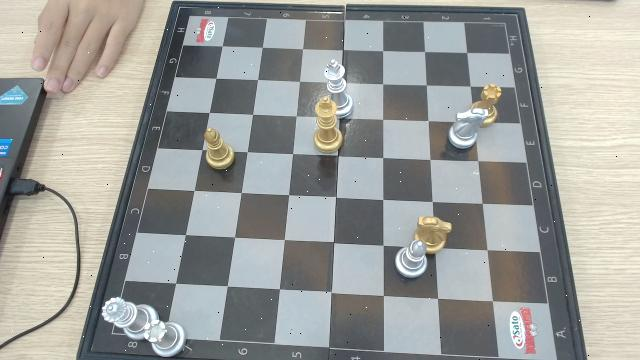black_bishop: (201, 126, 235, 171)
black_king: (314, 96, 341, 153)
black_knight: (414, 215, 452, 237)
black_rook: (480, 82, 504, 104)
white_bishop: (395, 241, 428, 279)
white_king: (324, 60, 349, 95)
white_knight: (447, 106, 486, 150)
white_queen: (99, 297, 143, 326)
white_rook: (142, 320, 186, 359)
